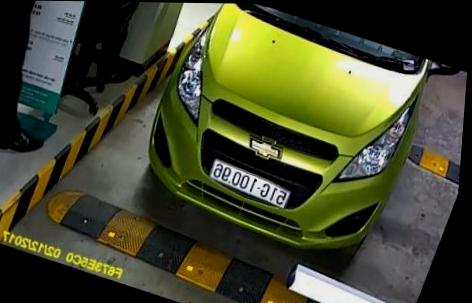License_Plate: (200, 159, 296, 213)
